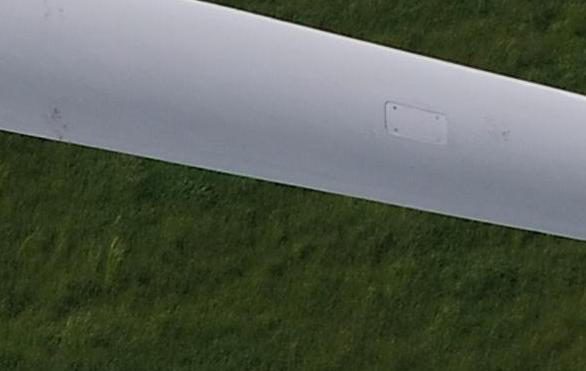damage: (44, 107, 68, 140), (40, 0, 65, 19), (500, 127, 511, 141)
